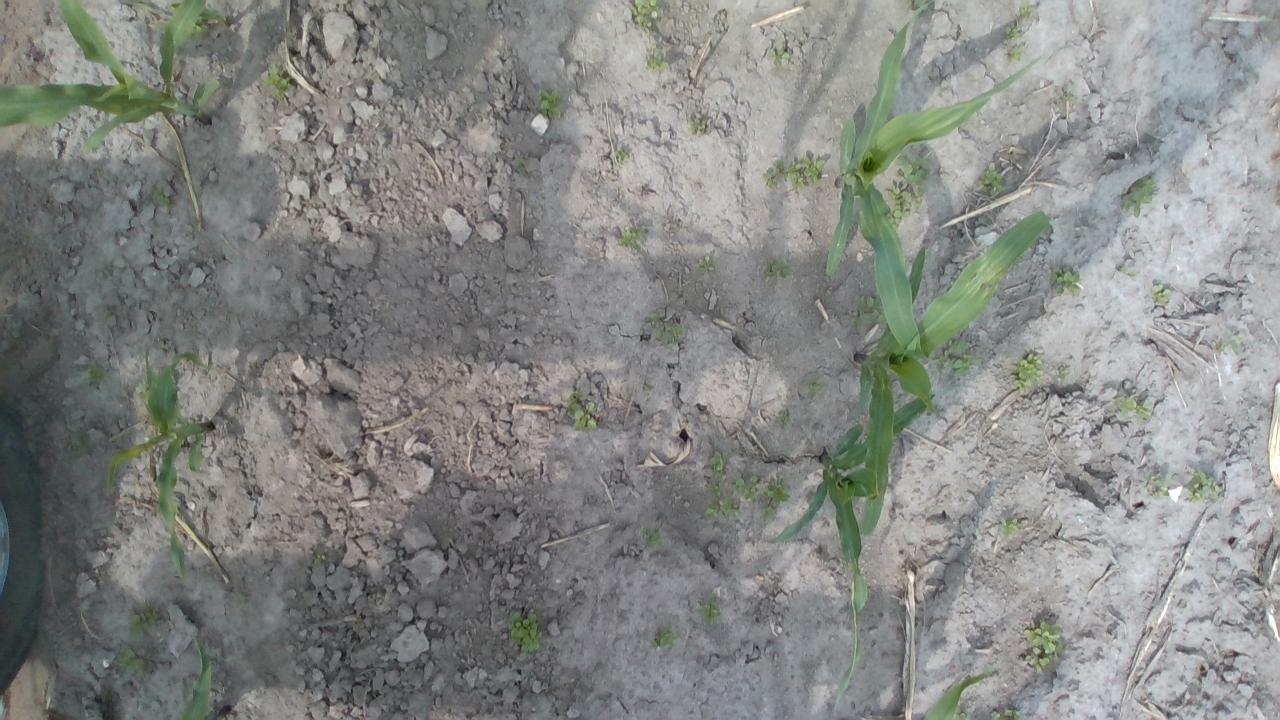Maize: (824, 0, 1048, 363), (851, 210, 1053, 536), (766, 393, 938, 712), (0, 0, 226, 153), (103, 349, 220, 584), (921, 667, 1000, 720), (176, 637, 217, 720)
Weeds: (887, 154, 930, 228), (703, 451, 742, 518), (1021, 620, 1066, 676), (763, 156, 828, 190), (172, 2, 230, 38), (937, 339, 983, 379), (1119, 176, 1160, 219), (1009, 351, 1045, 396), (506, 611, 544, 652), (1184, 470, 1228, 505), (567, 386, 598, 430), (760, 474, 790, 519), (1113, 392, 1152, 426), (260, 61, 292, 102), (648, 312, 686, 346), (129, 600, 162, 638), (115, 646, 148, 680), (854, 294, 889, 326), (1050, 265, 1082, 299), (630, 0, 660, 34), (979, 161, 1008, 195), (1142, 470, 1172, 501), (1212, 327, 1243, 357), (694, 594, 723, 626), (616, 224, 647, 253), (537, 87, 563, 120), (68, 432, 95, 460), (648, 625, 678, 650), (732, 476, 759, 503), (764, 258, 793, 280), (84, 362, 106, 388), (1150, 282, 1171, 309), (766, 42, 790, 65), (644, 50, 670, 70), (998, 517, 1019, 540), (644, 526, 664, 549), (1006, 43, 1026, 65), (695, 255, 716, 275), (802, 376, 824, 395), (990, 708, 1020, 720), (1062, 81, 1078, 103), (514, 154, 528, 178), (154, 190, 170, 210), (1118, 265, 1140, 279), (690, 116, 707, 134), (1019, 2, 1036, 20), (1004, 26, 1021, 42), (235, 592, 252, 606), (914, 0, 931, 14), (614, 149, 630, 163), (776, 415, 791, 428), (1057, 367, 1069, 380), (314, 553, 326, 565)
